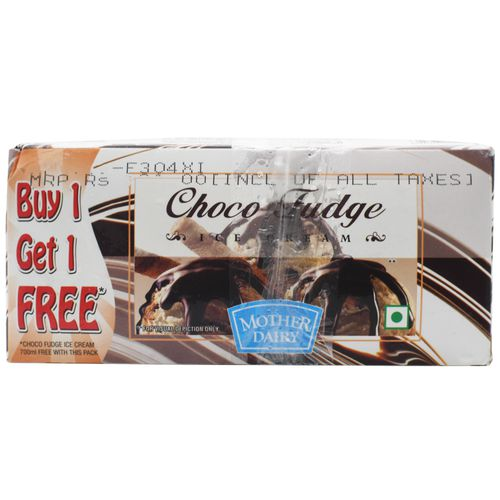Mother_Dairy: (218, 296, 326, 357)
